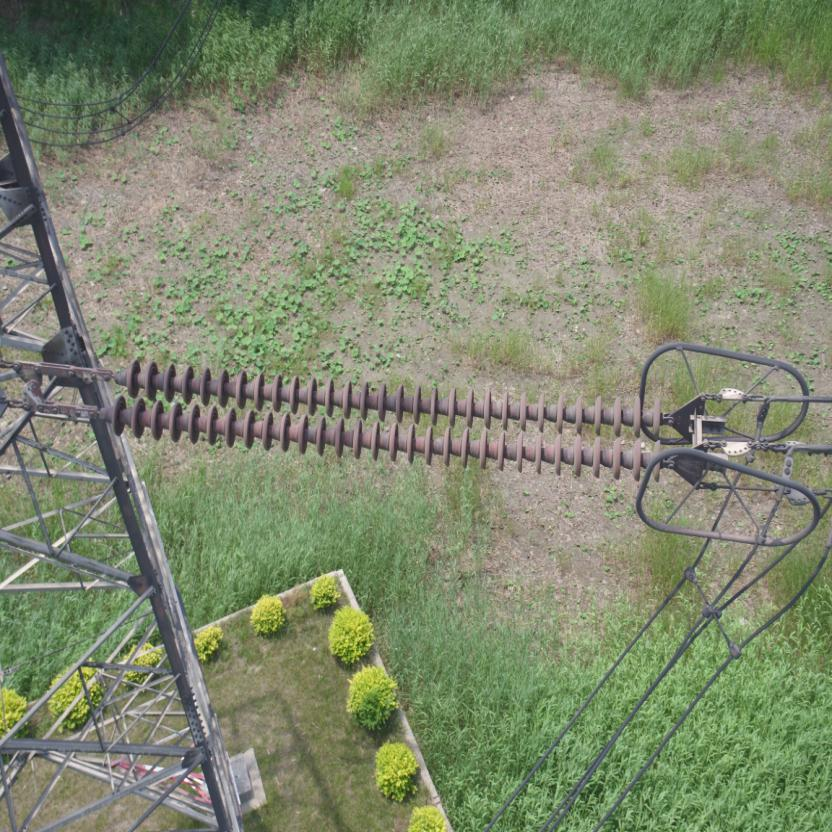insulator: (54, 350, 681, 484)
